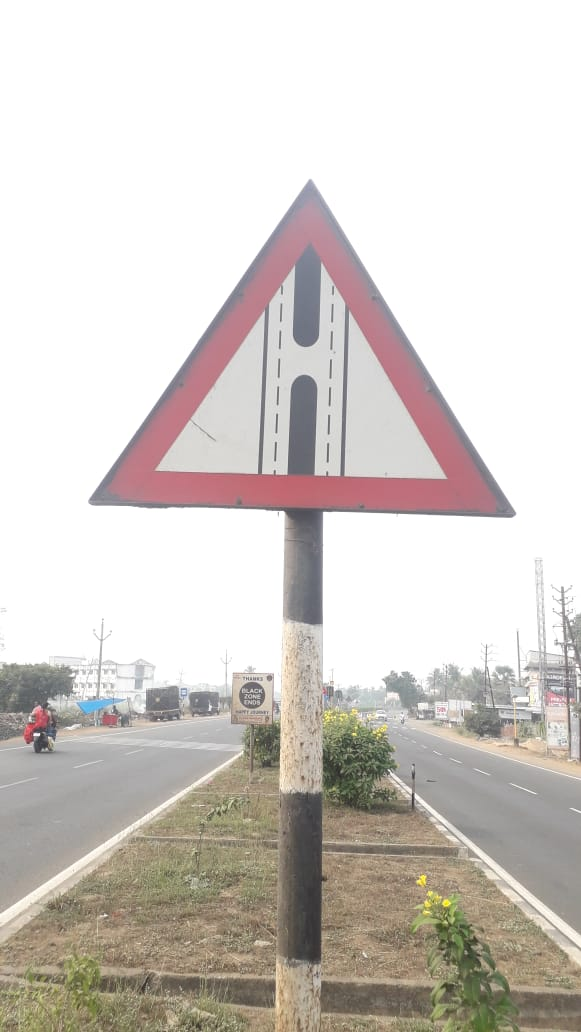highway go straight: (96, 147, 522, 571)
